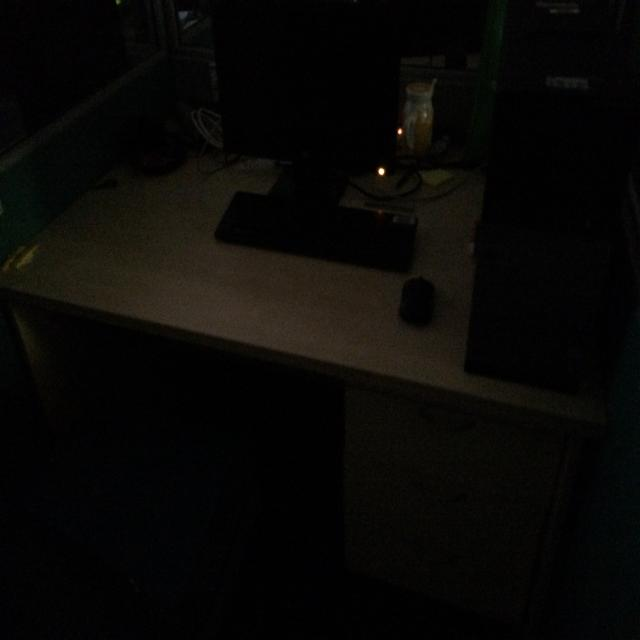Table: (0, 74, 640, 634)
